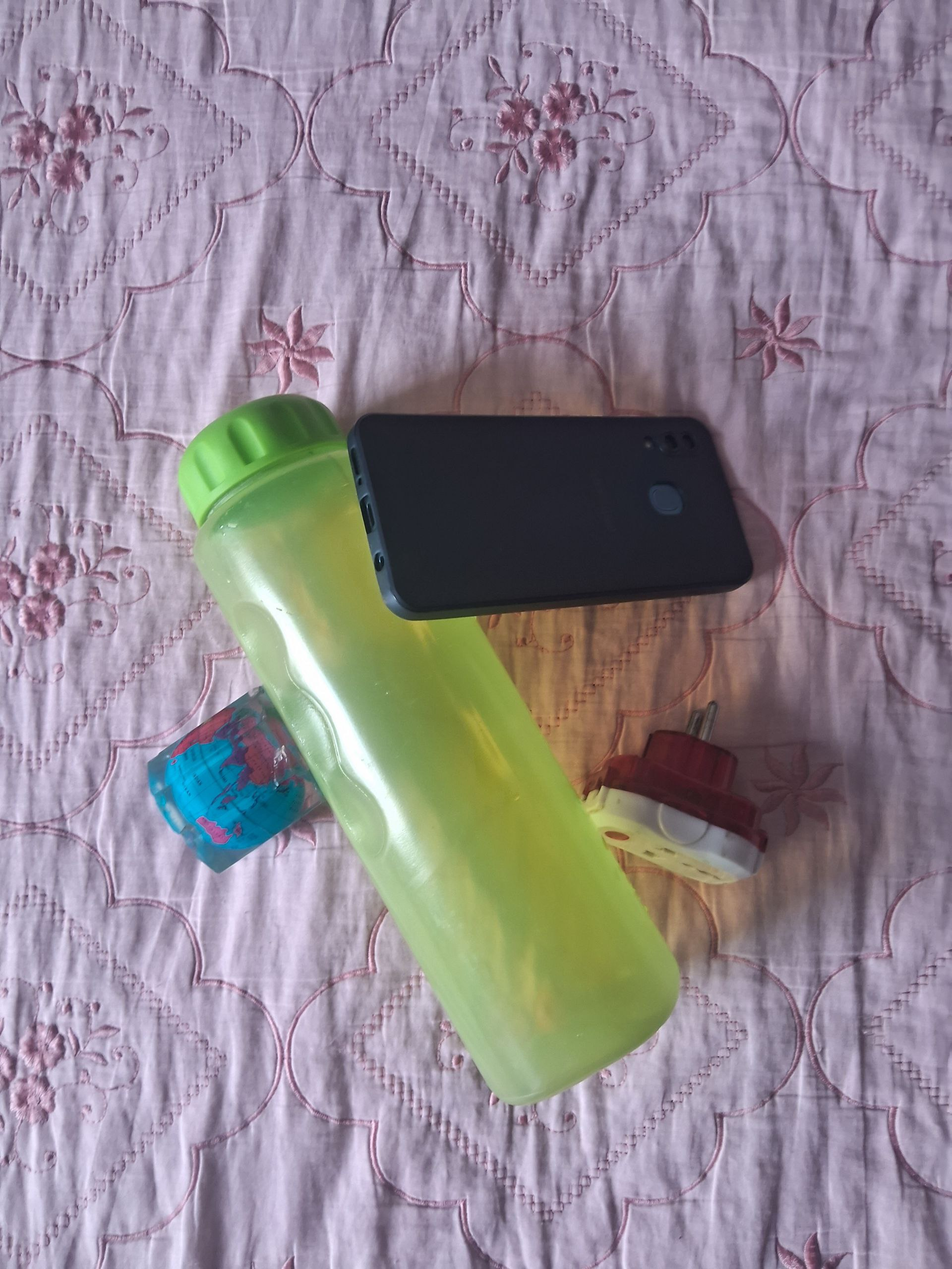Multi_adapter: (574, 699, 778, 890)
Smart_phone: (334, 395, 762, 624)
Water_bottle: (173, 368, 695, 1110)
world_globe: (138, 680, 324, 875)
